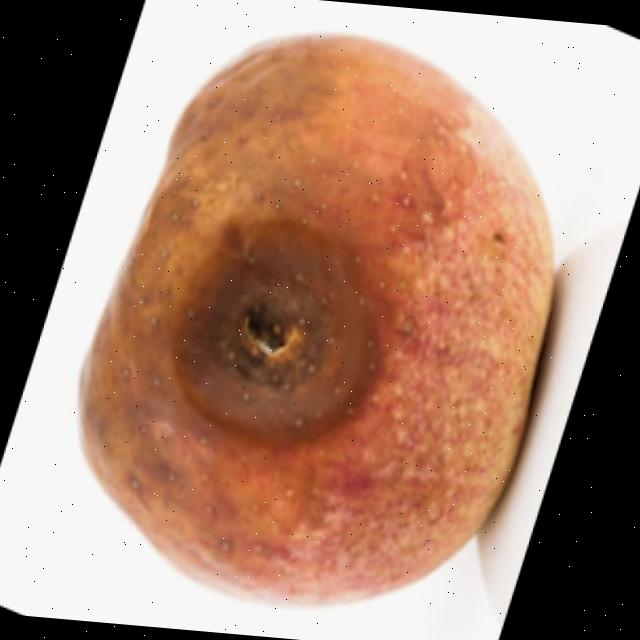Rotten: (55, 1, 578, 632)
